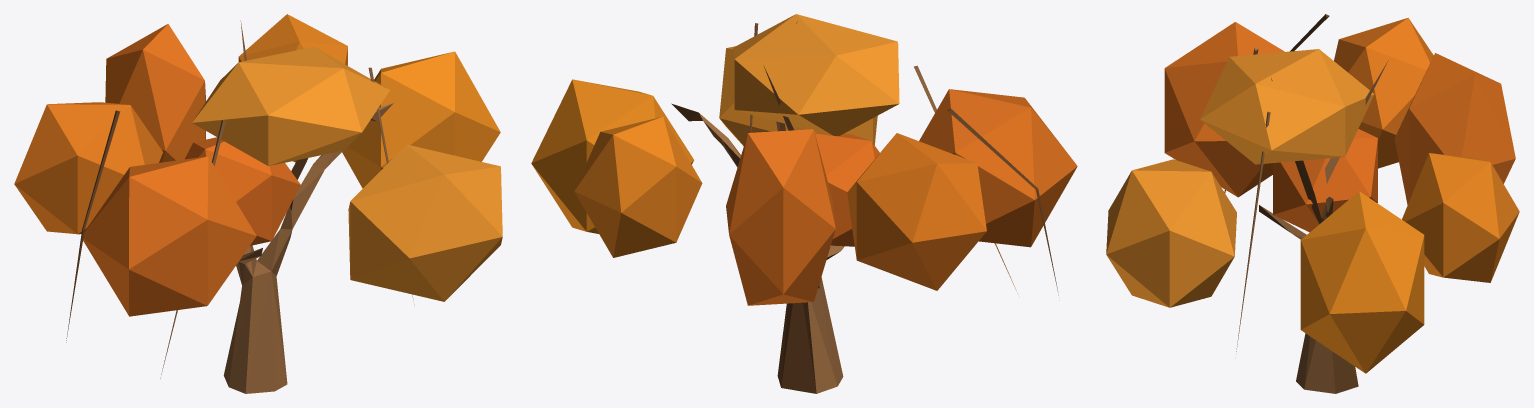
File: wisteria_autumn_far.glb
3 views of the same model, side by side, from view 1: azimuth 30°, elevation 25°; view 2: azimuth 150°, elevation 25°; view 3: azimuth 270°, elevation 25° (orthographic).
Parts seen in each view (by area): view 1: wisteria_autumn_far; view 2: wisteria_autumn_far; view 3: wisteria_autumn_far.
Part boxes in pixels (x1=…): wisteria_autumn_far: x1=14, y1=14, x2=502, y2=393; wisteria_autumn_far: x1=531, y1=14, x2=1077, y2=393; wisteria_autumn_far: x1=1106, y1=14, x2=1519, y2=393.
Bounding box in the file's own units: 8.55 × 5.88 × 6.69.
